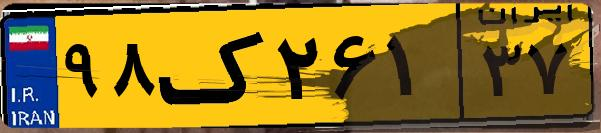1: (385, 28, 445, 110)
2: (270, 28, 330, 110)
3: (475, 38, 525, 113)
6: (330, 28, 385, 110)
7: (525, 38, 570, 115)
8: (110, 28, 158, 98)
9: (57, 26, 110, 100)
ک: (158, 12, 270, 120)
